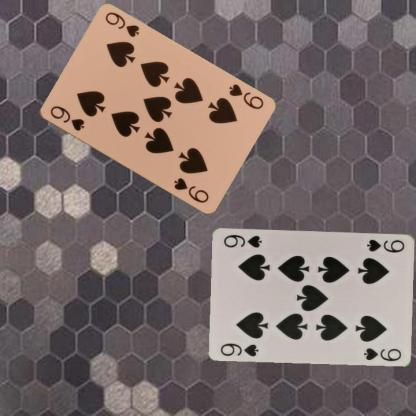9s: (46, 103, 86, 133), (226, 81, 265, 111), (364, 236, 406, 254), (218, 340, 260, 358)
